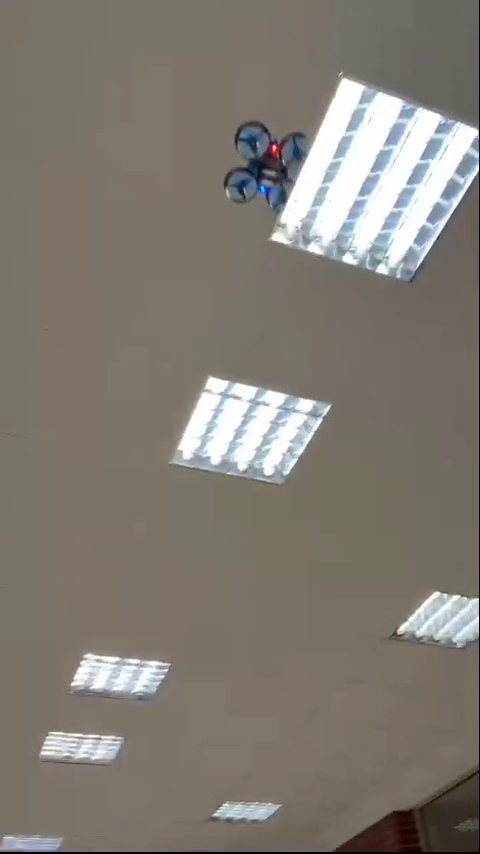drone: (224, 127, 314, 213)
